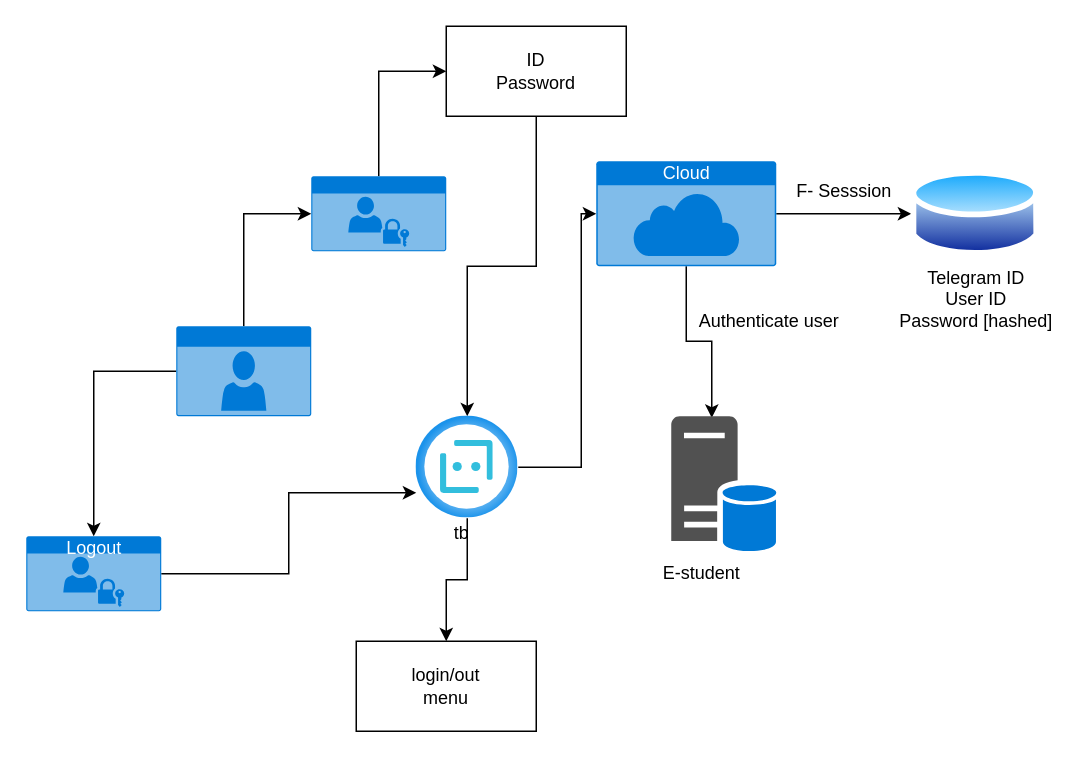
Some shapes in this 1091 by 758 pixel diagram are drawn without their labels. Here are the shapes that lost their labels. From the top down, the centre of each, then its label:
At pixel 378 213: "Login".
At pixel 243 371: "User".
